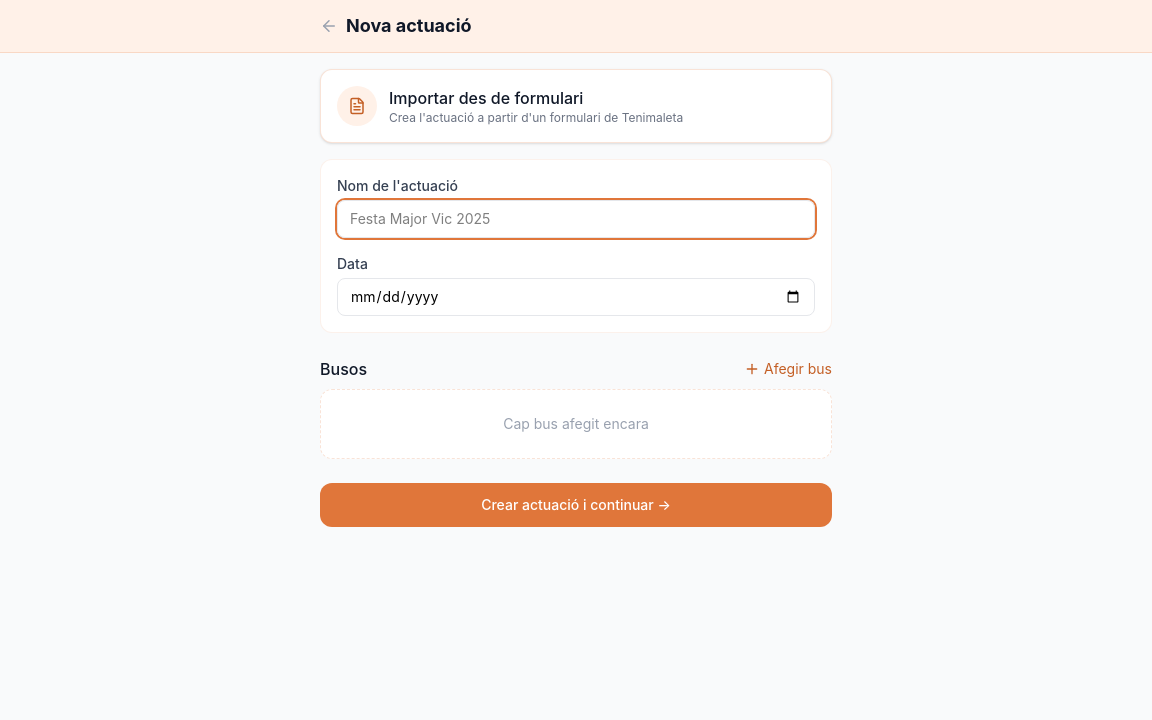
Test: NewEvent › submit amb error mostra missatge d'error
This screenshot has width=1152, height=720.
In the field with placeholder "Festa Major Vic 2025": (576, 219) [337, 200, 815, 238], type "Vic 2025"
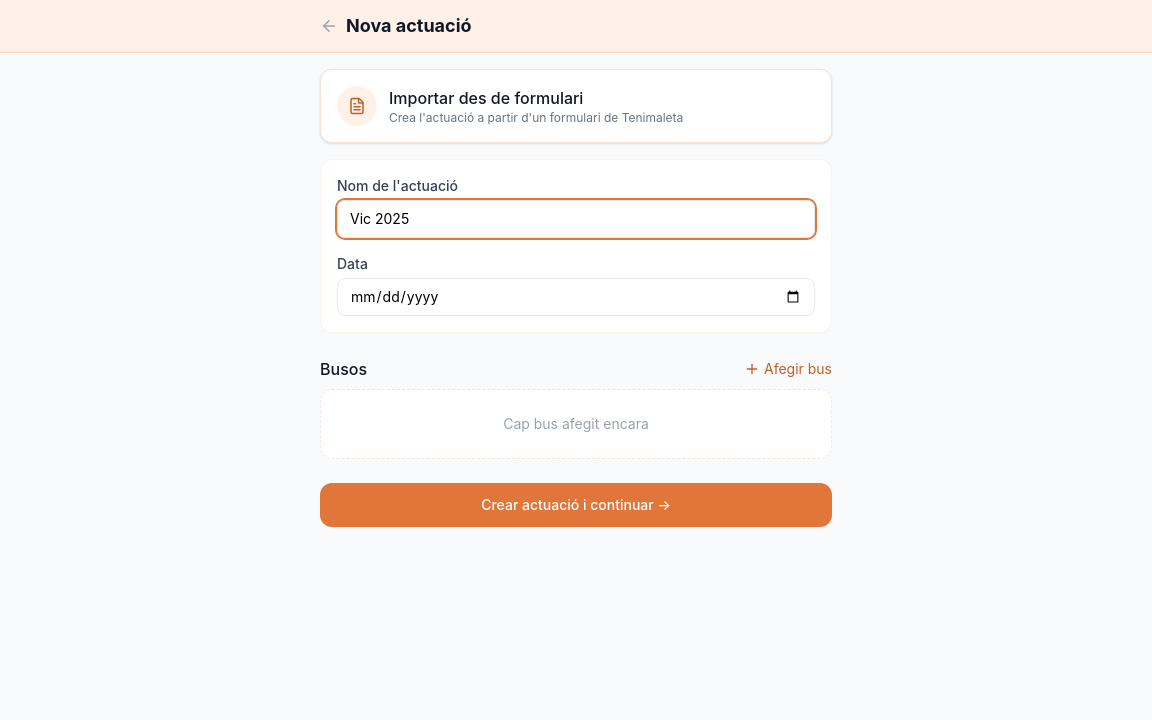
In the date field labelled "Data": (576, 297) [337, 278, 815, 316], type "2025-06-01"
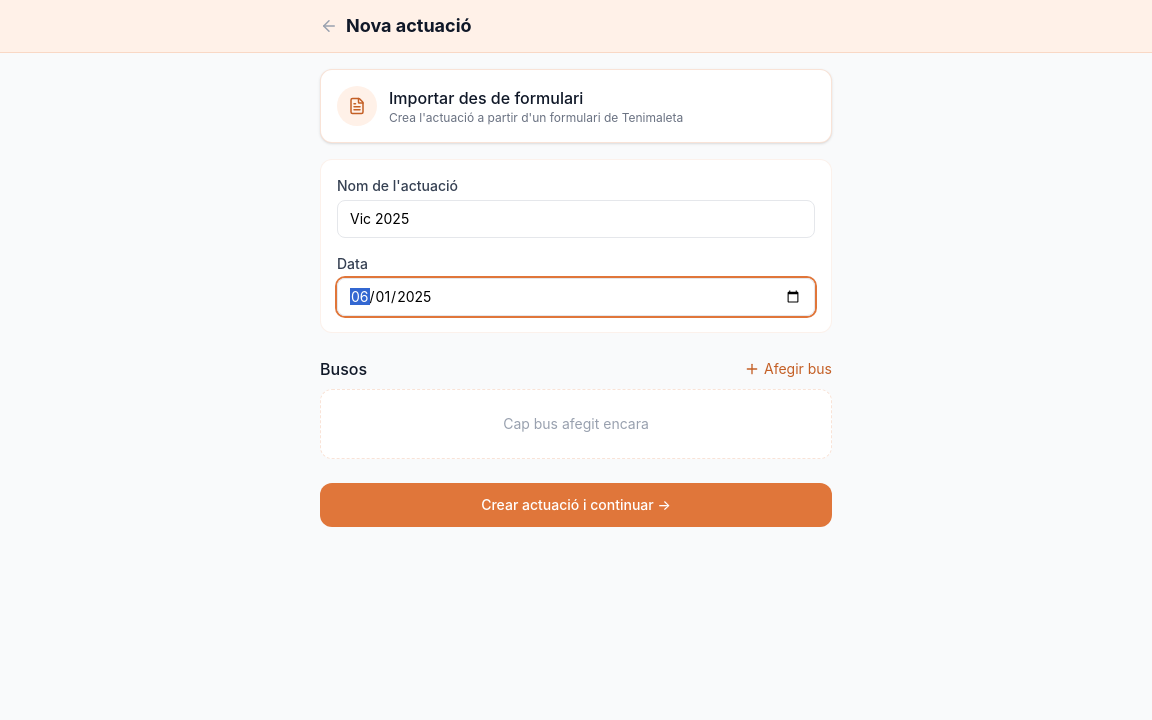
Click the button "Afegir bus": (788, 369) [744, 359, 832, 379]
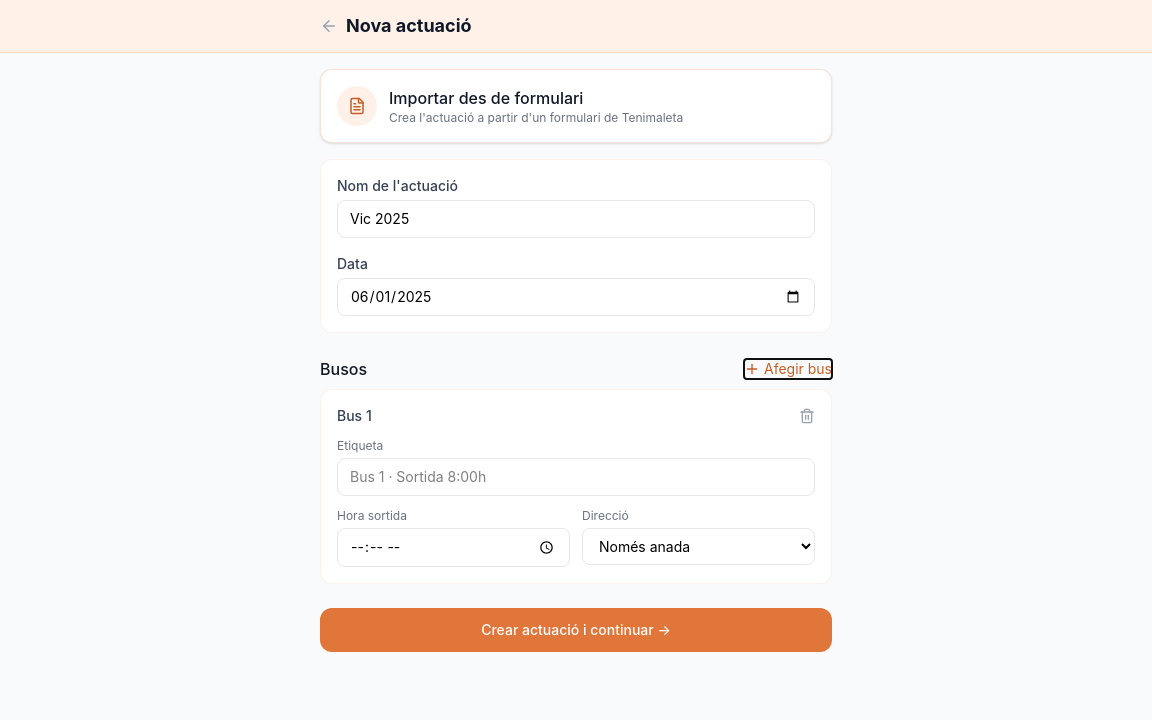
Submit the form named "Crear", box [320, 159, 832, 652]
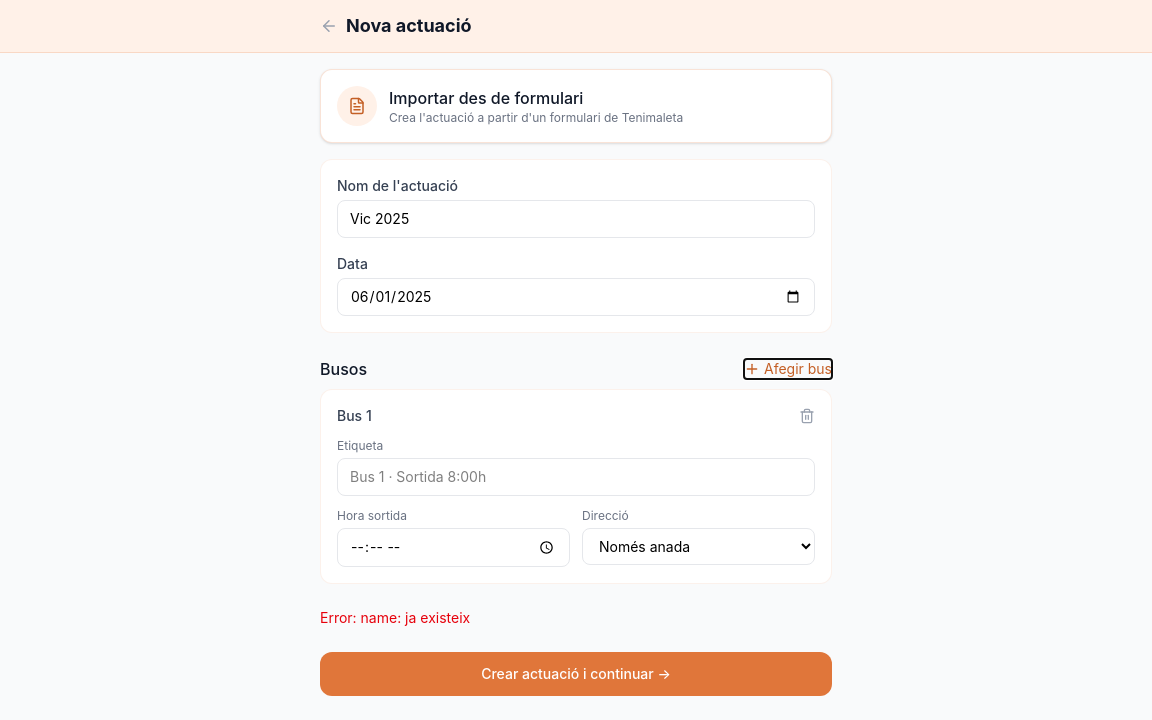
Expected: the text "Error: name: ja existeix" is shown, [320, 609, 470, 626]
